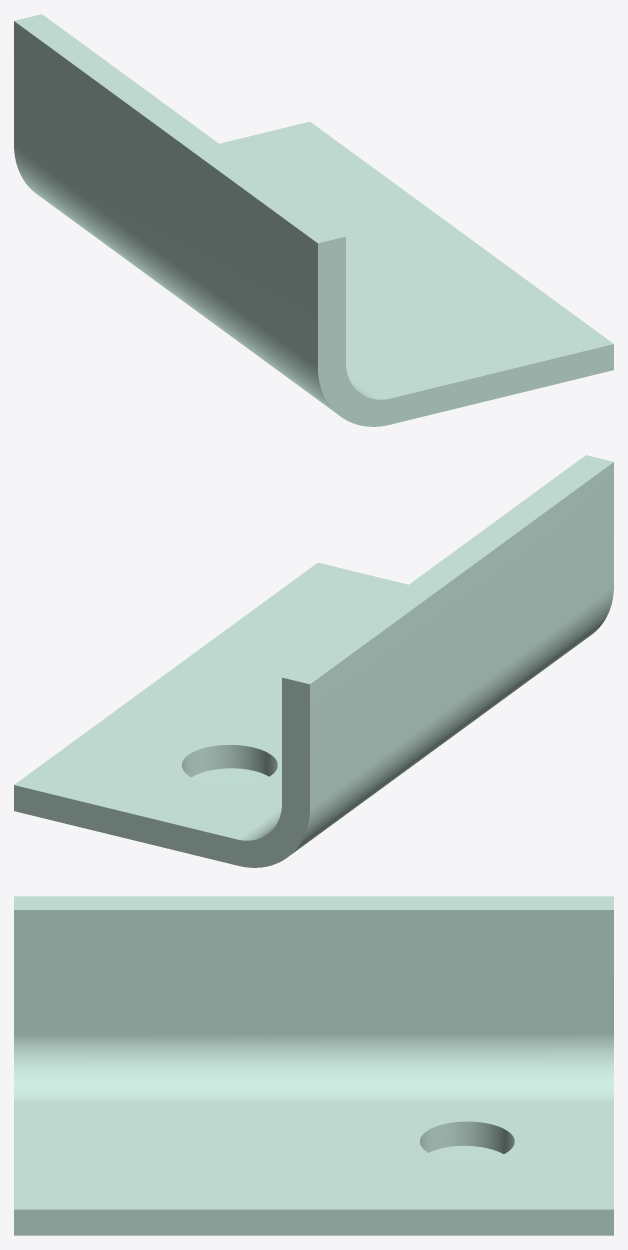
3 renders of one model, top to bottom at view 1: azimuth 30°, elevation 25°; view 2: azimuth 150°, elevation 25°; view 3: azimuth 270°, elevation 25°, orthographic.
Visible parts, largest first — view 1: Renderer Node; view 2: Renderer Node; view 3: Renderer Node.
Part boxes in pixels (x1,y1,x2,y2): Renderer Node: (14,14,613,426); Renderer Node: (14,455,613,867); Renderer Node: (14,896,613,1235).
Size of the model in its own units: 0.4219 by 0.2709 by 0.75.
